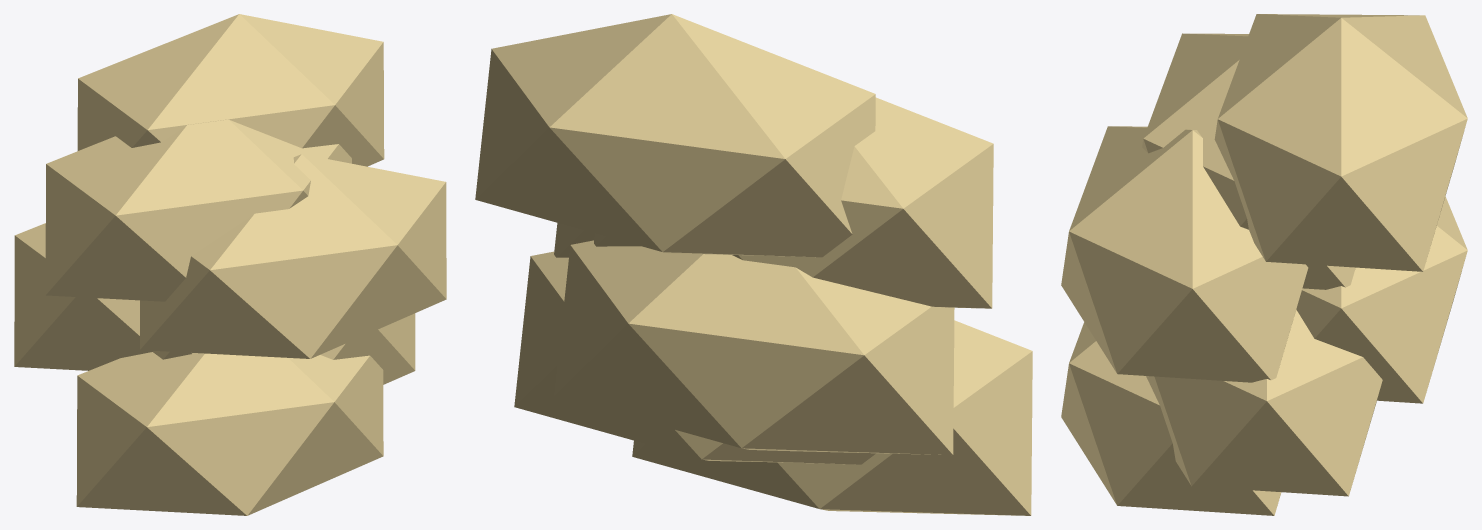
The model's file is item_044_bread_l.glb.
3 views of the same model, side by side, from view 1: azimuth 30°, elevation 25°; view 2: azimuth 150°, elevation 25°; view 3: azimuth 270°, elevation 25° (orthographic). The views are drawn at different scales.
Parts seen in each view (by area): view 1: item_044_bread_l; view 2: item_044_bread_l; view 3: item_044_bread_l.
Boxes of the visible parts, bbox=[...] form: item_044_bread_l: bbox=[14, 14, 446, 515]; item_044_bread_l: bbox=[475, 14, 1032, 515]; item_044_bread_l: bbox=[1061, 14, 1467, 515].
Size of the model in its own units: 0.4097 by 0.4535 by 0.3282.
